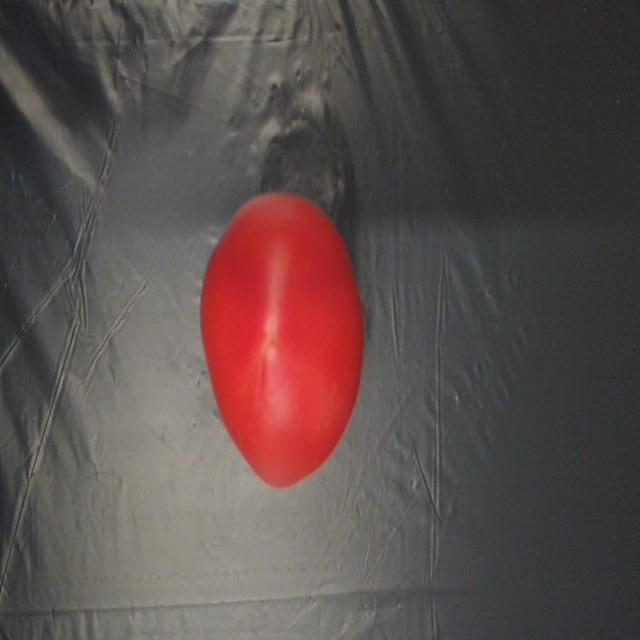kirmizi: (188, 168, 376, 502)
